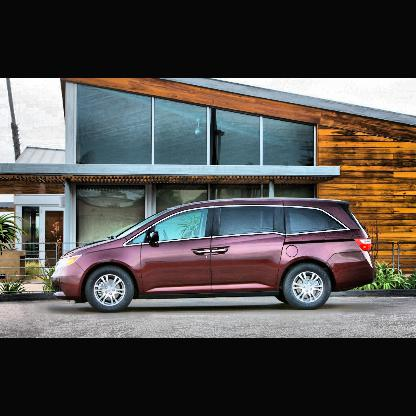Honda Odyssey Minivan 2012: (51, 197, 378, 317)
